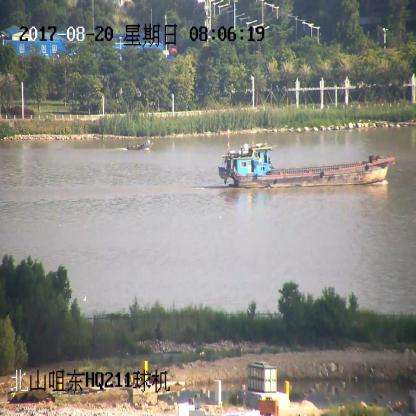Fishing Boat: (218, 145, 394, 189), (128, 140, 152, 152)
